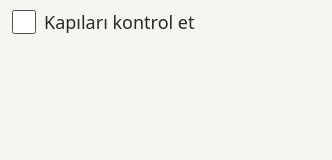
Scenario: Checkbox › etiketiyle bulunur ve işaretlenince değişikliği bildirir
Click the checkbox labelled "Kapıları kontrol et": (24, 22) [12,10,36,34]
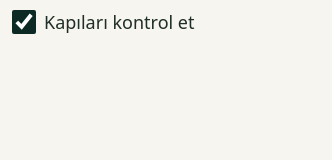
Now the checkbox labelled "Kapıları kontrol et" is checked, box [12,10,36,34]
